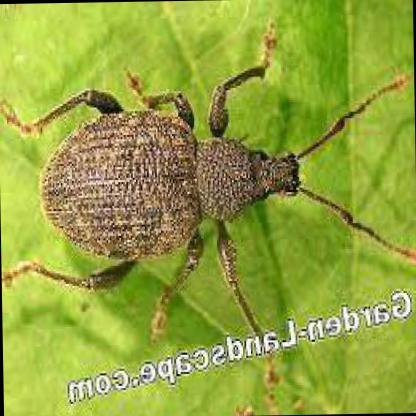ash weevil: (4, 27, 411, 342)
